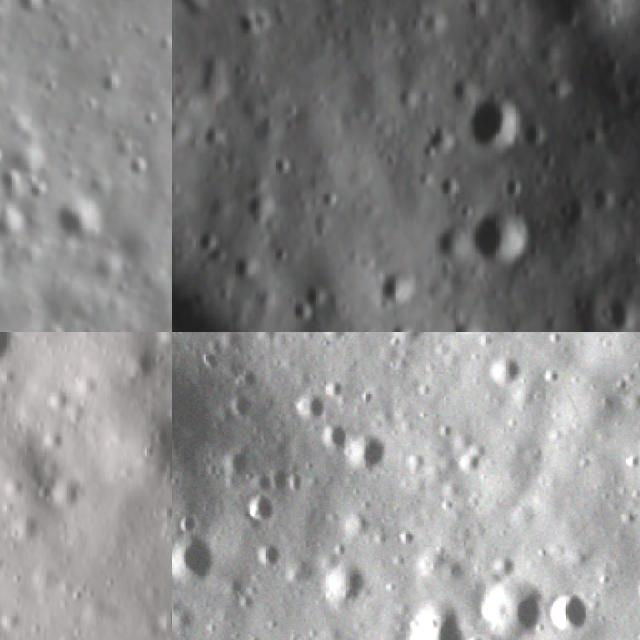crater: (172, 332, 256, 486), (461, 565, 557, 640), (456, 194, 532, 273), (307, 545, 384, 619), (334, 422, 405, 498), (384, 593, 484, 640), (466, 84, 532, 152), (172, 526, 228, 603), (534, 581, 605, 640), (472, 343, 536, 403), (243, 532, 297, 585), (234, 483, 286, 537), (374, 261, 425, 314), (54, 197, 107, 245), (286, 384, 334, 434), (311, 415, 357, 466), (416, 114, 464, 160), (401, 3, 452, 46), (448, 437, 494, 484), (240, 188, 289, 225), (542, 68, 580, 105), (442, 69, 482, 103), (190, 222, 230, 254), (282, 291, 317, 327), (604, 297, 640, 332), (391, 83, 426, 115), (198, 116, 230, 150), (229, 249, 265, 278), (625, 25, 640, 90), (126, 154, 157, 185), (576, 120, 606, 152), (266, 149, 299, 177), (313, 182, 346, 210), (590, 180, 618, 213), (433, 173, 467, 200), (524, 115, 553, 146), (524, 232, 552, 264), (623, 565, 640, 617), (14, 0, 49, 24), (448, 313, 490, 332), (498, 175, 528, 201), (553, 193, 578, 224), (204, 243, 238, 264), (306, 279, 330, 308), (438, 332, 483, 347), (103, 72, 126, 101), (243, 15, 276, 35), (227, 55, 252, 80), (463, 0, 494, 18), (312, 218, 336, 241), (272, 239, 296, 262), (172, 504, 184, 550), (416, 165, 438, 188), (508, 321, 553, 332), (457, 200, 479, 222), (530, 210, 553, 231), (172, 175, 188, 199), (250, 68, 267, 87)
